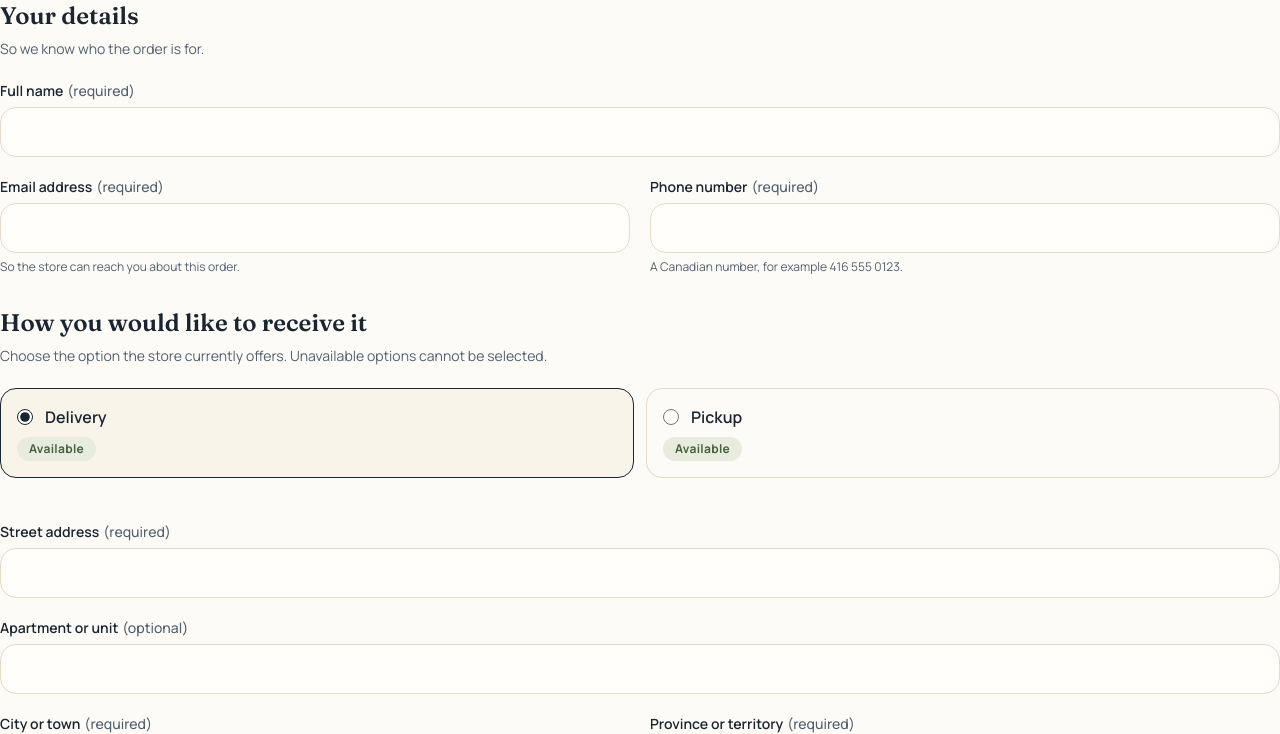
Test: CustomerForm: fulfilment › swaps the address fields for the owner's pickup instructions
Click the radio button labelled "Pickup Available" at (671, 416), box [663,408,679,424]
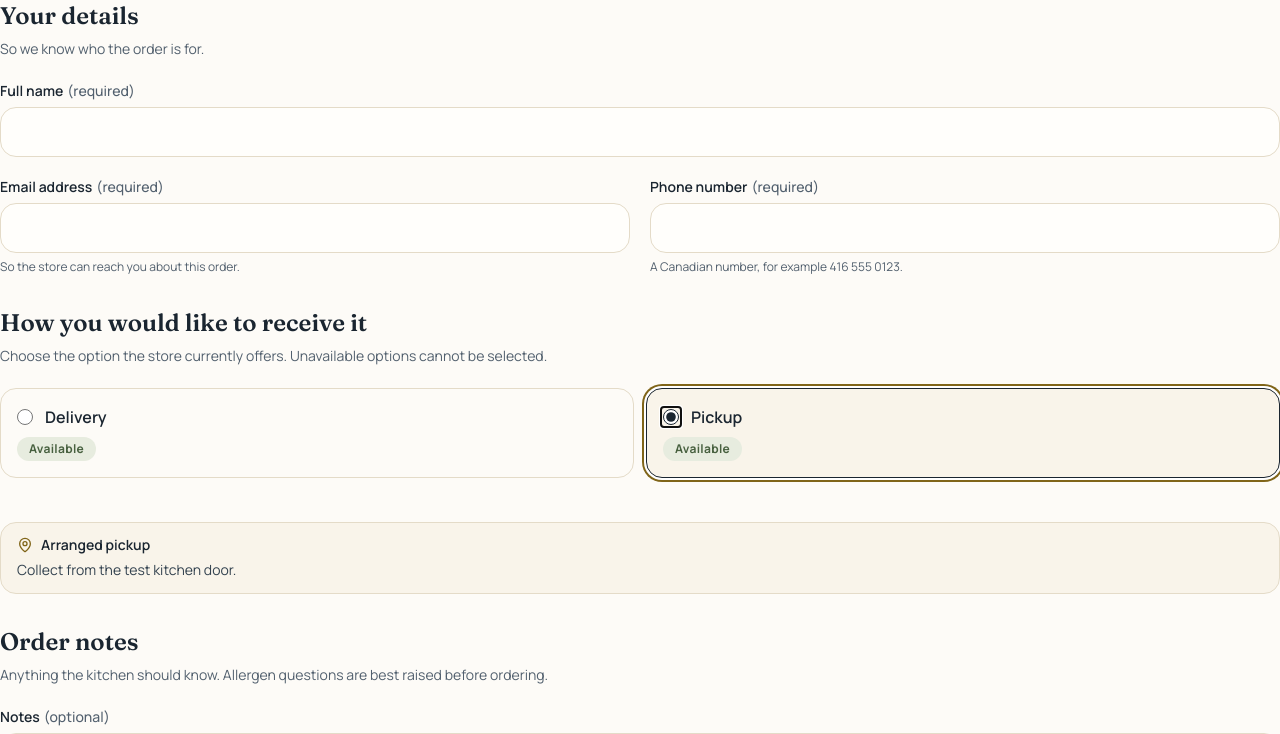
Result: the element with test id "pickup-fields" is shown at [0,522,1279,594]
Result: the text "Collect from the test kitchen door." is shown at [17,560,236,578]
